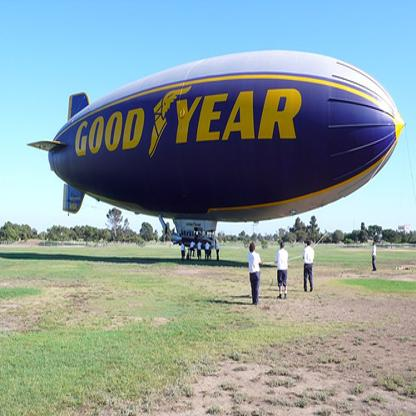Airship: (24, 49, 410, 234)
